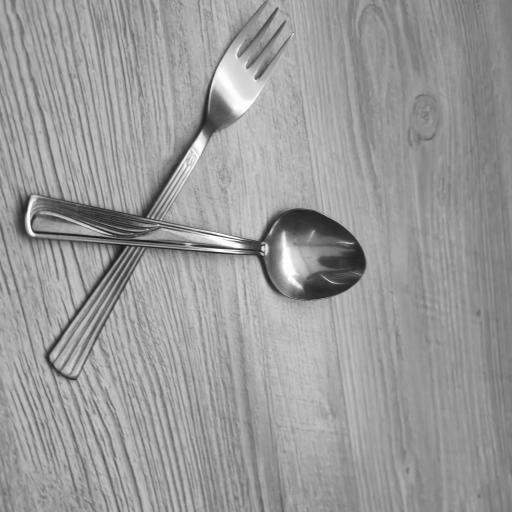fork: (49, 6, 299, 380)
spoon: (40, 192, 366, 297)
